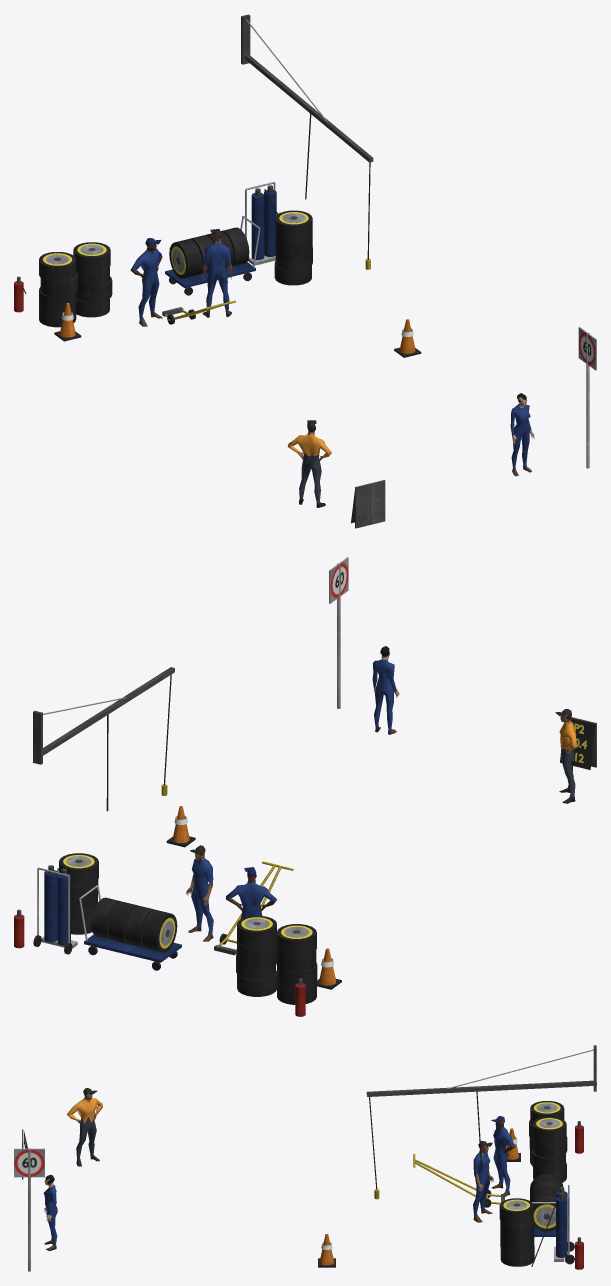
The model's file is pit_kit_0.glb.
3 views of the same model, one above another, from view 1: azimuth 30°, elevation 25°; view 2: azimuth 150°, elevation 25°; view 3: azimuth 270°, elevation 25° (orthographic). The views are drawn at different scales.
Visible parts, largest first — view 1: pit_kit_0, pit_kit_0 crew; view 2: pit_kit_0, pit_kit_0 crew; view 3: pit_kit_0, pit_kit_0 crew.
Part boxes in pixels (left/top/right/bottom): pit_kit_0: left=14, top=14, right=596, bottom=528; pit_kit_0 crew: left=130, top=229, right=534, bottom=507; pit_kit_0: left=14, top=557, right=596, bottom=1016; pit_kit_0 crew: left=186, top=646, right=577, bottom=941; pit_kit_0: left=14, top=1045, right=596, bottom=1271; pit_kit_0 crew: left=43, top=1088, right=515, bottom=1250.
Size of the model in its own units: 5.71 by 4.66 by 11.66.
Materials: 14 (10 with a texture image).
